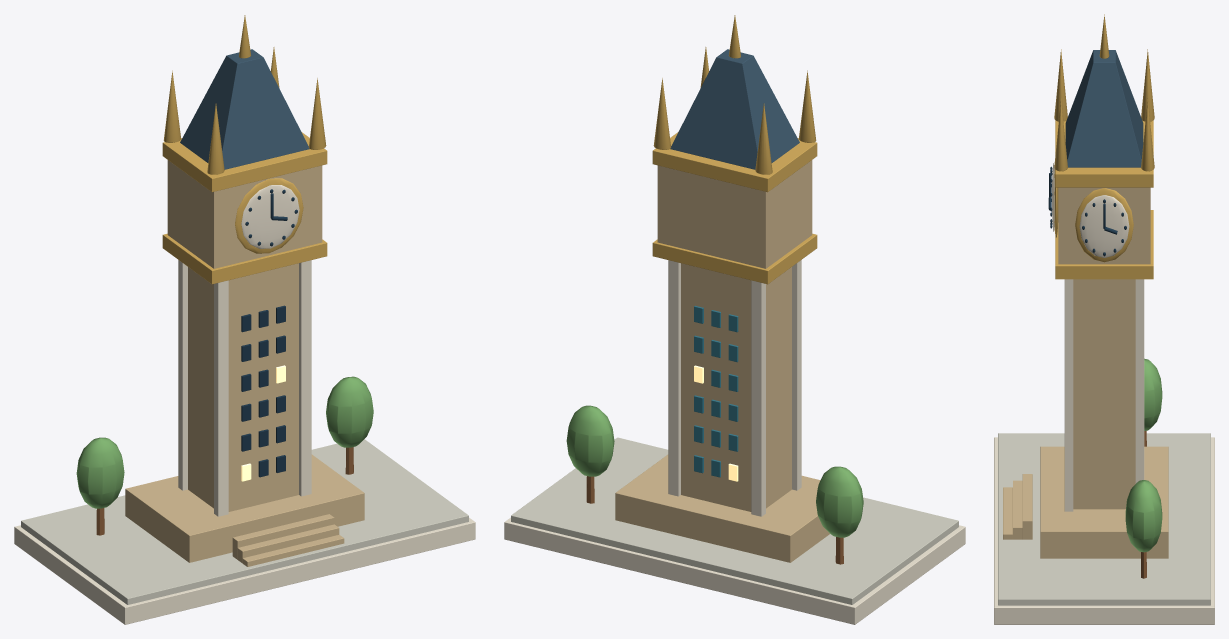
File: big-ben.glb
The picture shows the model from 3 angles, left to right: view 1: azimuth 30°, elevation 25°; view 2: azimuth 150°, elevation 25°; view 3: azimuth 270°, elevation 25°; orthographic projection.
Parts seen in each view (by area): view 1: Big Ben; view 2: Big Ben; view 3: Big Ben.
Part boxes in pixels (x1=…): Big Ben: x1=14, y1=15, x2=475, y2=624; Big Ben: x1=504, y1=15, x2=965, y2=624; Big Ben: x1=994, y1=14, x2=1214, y2=624.
Size of the model in its own units: 1.47 by 2.12 by 0.8064.
